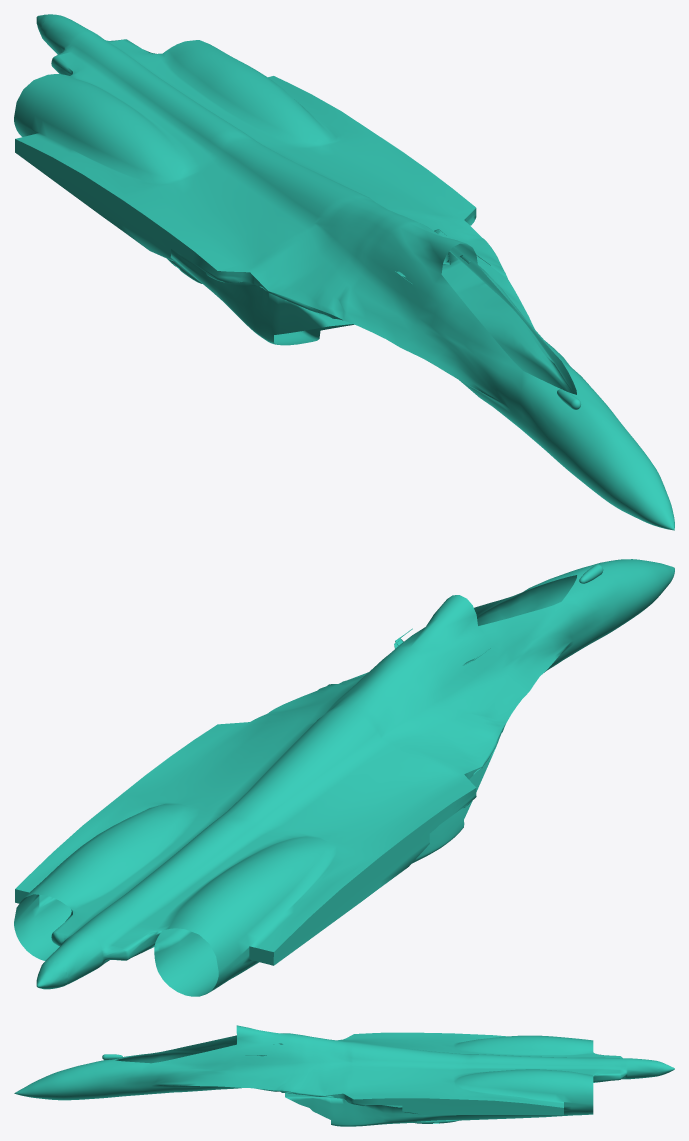
Rendered from thanmb30.FBX.
3 renders of one model, top to bottom at view 1: azimuth 30°, elevation 25°; view 2: azimuth 150°, elevation 25°; view 3: azimuth 270°, elevation 25°, orthographic. The views are drawn at different scales.
Visible parts, largest first — view 1: thanmb30; view 2: thanmb30; view 3: thanmb30.
Part boxes in pixels (left/top/right/bottom): thanmb30: left=14, top=14, right=674, bottom=530; thanmb30: left=14, top=559, right=674, bottom=996; thanmb30: left=14, top=1025, right=674, bottom=1126.
Size of the model in its own units: 73.35 by 41.78 by 312.
